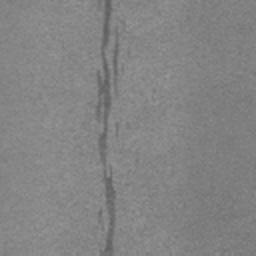Red iron sheet: (95, 0, 120, 256), (115, 122, 122, 136)
